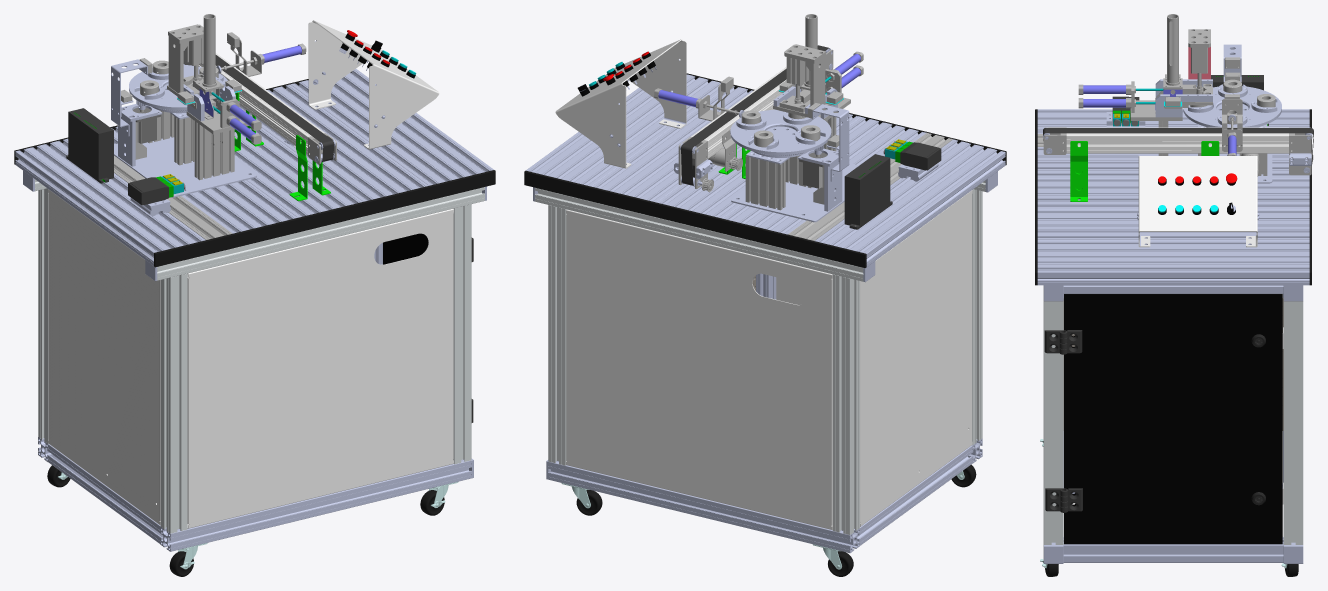
3 views of the same model, side by side, from view 1: azimuth 30°, elevation 25°; view 2: azimuth 150°, elevation 25°; view 3: azimuth 270°, elevation 25° (orthographic). The views are drawn at different scales.
Parts seen in each view (by area): view 1: inst_1829388, inst_1829402, inst_1829426, inst_1829384, inst_1828905, inst_1829430, inst_1829378, inst_1829429, inst_1829382, inst_1829377, inst_1829428, inst_1829427 (+24 smaller); view 2: inst_1829389, inst_1829402, inst_1829426, inst_1829385, inst_1828905, inst_1829380, inst_1829430, inst_1829386, inst_1829381, inst_1829429, inst_1829427, inst_1829088 (+21 smaller); view 3: inst_1829404, inst_1829430, inst_1828905, inst_1829429, inst_1829386, inst_1829428, inst_1829382, inst_1829383, inst_1829001, inst_1829427, inst_1829426, inst_1829379 (+20 smaller).
Boxes of the visible parts, bbox=[...] form: inst_1829388: bbox=[187, 208, 453, 528]; inst_1829402: bbox=[48, 189, 160, 525]; inst_1829426: bbox=[15, 138, 205, 265]; inst_1829384: bbox=[160, 273, 187, 533]; inst_1828905: bbox=[308, 20, 439, 149]; inst_1829430: bbox=[291, 69, 493, 185]; inst_1829378: bbox=[160, 459, 471, 551]; inst_1829429: bbox=[239, 84, 428, 201]; inst_1829382: bbox=[453, 204, 471, 464]; inst_1829377: bbox=[157, 187, 484, 280]; inst_1829428: bbox=[234, 128, 362, 217]; inst_1829427: bbox=[111, 126, 297, 233]; inst_1829389: bbox=[566, 209, 832, 529]; inst_1829402: bbox=[860, 190, 972, 526]; inst_1829426: bbox=[815, 139, 1005, 266]; inst_1829385: bbox=[832, 274, 859, 534]; inst_1828905: bbox=[555, 39, 686, 168]; inst_1829380: bbox=[548, 461, 860, 553]; inst_1829430: bbox=[526, 74, 720, 186]; inst_1829386: bbox=[548, 205, 566, 465]; inst_1829381: bbox=[535, 188, 863, 281]; inst_1829429: bbox=[591, 86, 753, 202]; inst_1829427: bbox=[723, 117, 926, 234]; inst_1829088: bbox=[844, 154, 892, 229]; inst_1829404: bbox=[1064, 294, 1282, 544]; inst_1829430: bbox=[1037, 241, 1309, 285]; inst_1828905: bbox=[1138, 156, 1257, 247]; inst_1829429: bbox=[1037, 209, 1309, 240]; inst_1829386: bbox=[1283, 301, 1303, 544]; inst_1829428: bbox=[1037, 178, 1309, 209]; inst_1829382: bbox=[1043, 301, 1063, 544]; inst_1829383: bbox=[1063, 537, 1283, 562]; inst_1829001: bbox=[1066, 127, 1288, 153]; inst_1829427: bbox=[1037, 147, 1309, 178]; inst_1829426: bbox=[1037, 109, 1309, 133]; inst_1829379: bbox=[1063, 285, 1283, 293].
Size of the model in its own units: 0.78 by 1.08 by 0.5638.
